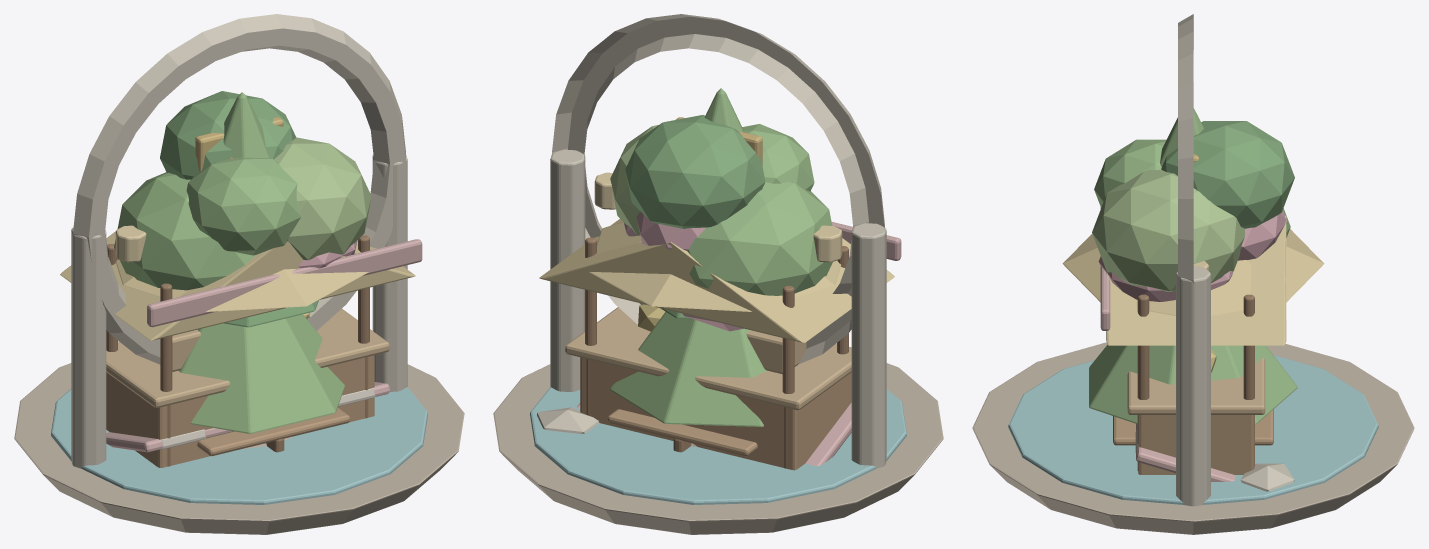
Rendered from kit.glb.
The picture shows the model from 3 angles, left to right: view 1: azimuth 30°, elevation 25°; view 2: azimuth 150°, elevation 25°; view 3: azimuth 270°, elevation 25°; orthographic projection. The views are drawn at different scales.
Parts seen in each view (by area): view 1: koi_pond, arch_gate, tree_broad, market_stall, tree_pine, parasol, picnic_set, awning, tree_blossom; view 2: koi_pond, arch_gate, market_stall, tree_broad, tree_pine, parasol, picnic_set, tree_blossom, awning; view 3: koi_pond, tree_broad, market_stall, arch_gate, tree_pine, parasol, tree_blossom, picnic_set, awning.
Boxes of the visible parts, x1,y1,x2,y2 form: koi_pond: [14, 363, 464, 534]; arch_gate: [71, 14, 407, 468]; tree_broad: [114, 91, 371, 290]; market_stall: [60, 231, 422, 467]; tree_pine: [179, 92, 344, 433]; parasol: [115, 240, 368, 311]; picnic_set: [197, 408, 349, 456]; awning: [106, 382, 389, 452]; tree_blossom: [298, 241, 357, 268]; koi_pond: [493, 363, 943, 534]; arch_gate: [550, 14, 886, 468]; market_stall: [539, 219, 901, 470]; tree_broad: [610, 115, 832, 295]; tree_pine: [610, 88, 766, 426]; parasol: [589, 222, 841, 311]; picnic_set: [608, 409, 757, 456]; tree_blossom: [623, 211, 743, 331]; awning: [577, 402, 851, 466]; koi_pond: [972, 342, 1414, 534]; tree_broad: [1092, 121, 1294, 291]; market_stall: [1100, 207, 1286, 474]; arch_gate: [1176, 14, 1210, 506]; tree_pine: [1089, 108, 1297, 424]; parasol: [1062, 229, 1324, 315]; tree_blossom: [1098, 210, 1287, 301]; picnic_set: [1113, 409, 1273, 445]; awning: [1135, 424, 1235, 481].
Size of the model in its own units: 4.18 by 4.37 by 4.18.
